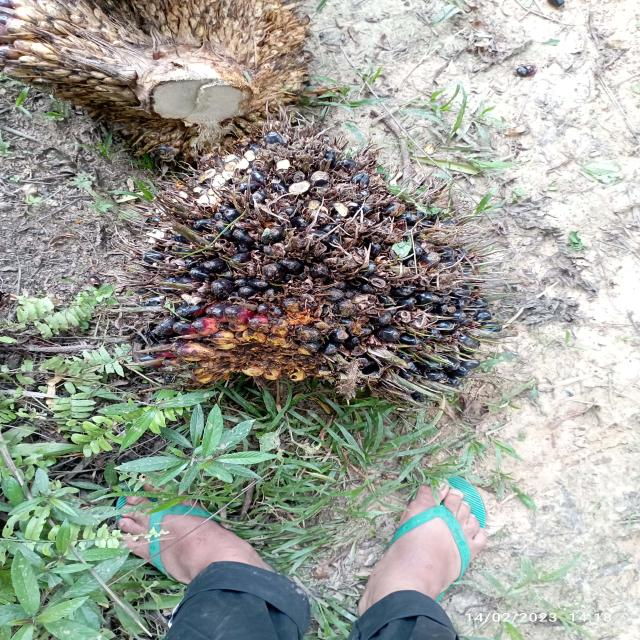fraksi 00: (79, 115, 538, 428)
